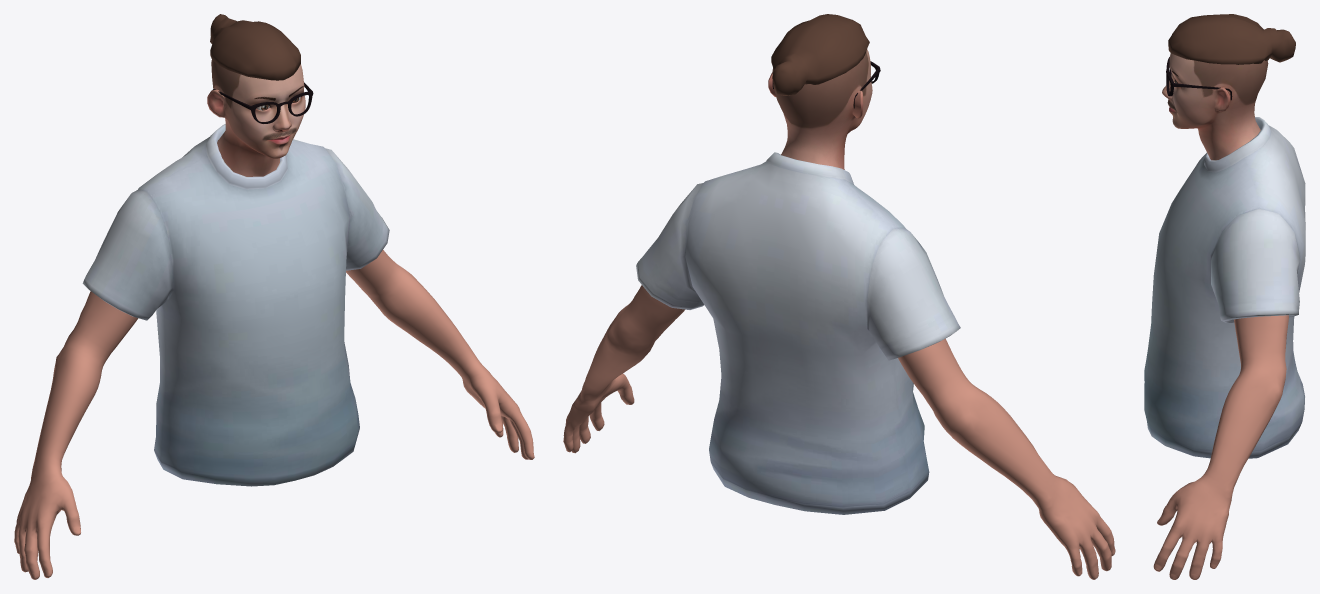
File: asian_upper.glb
3 renders of one model, left to right at view 1: azimuth 30°, elevation 25°; view 2: azimuth 150°, elevation 25°; view 3: azimuth 270°, elevation 25°, orthographic. The views are drawn at different scales.
Visible parts, largest first — view 1: Wolf3D_Outfit_Top, Wolf3D_Body, Wolf3D_Head, Wolf3D_Hair, Wolf3D_Glasses; view 2: Wolf3D_Outfit_Top, Wolf3D_Body, Wolf3D_Head, Wolf3D_Hair; view 3: Wolf3D_Outfit_Top, Wolf3D_Body, Wolf3D_Head, Wolf3D_Hair, Wolf3D_Glasses.
Boxes of the visible parts, x1,y1,x2,y2 form: Wolf3D_Outfit_Top: [82, 124, 389, 486]; Wolf3D_Body: [14, 250, 534, 579]; Wolf3D_Head: [207, 60, 305, 176]; Wolf3D_Hair: [210, 14, 300, 80]; Wolf3D_Glasses: [212, 82, 313, 123]; Wolf3D_Outfit_Top: [636, 152, 960, 514]; Wolf3D_Body: [563, 285, 1115, 579]; Wolf3D_Head: [768, 49, 872, 169]; Wolf3D_Hair: [771, 14, 869, 95]; Wolf3D_Outfit_Top: [1144, 117, 1305, 458]; Wolf3D_Body: [1153, 315, 1288, 579]; Wolf3D_Head: [1162, 53, 1268, 160]; Wolf3D_Hair: [1168, 14, 1295, 64]; Wolf3D_Glasses: [1166, 57, 1232, 100].
Size of the model in its own units: 1.06 by 0.9587 by 0.3125.
Materials: 7 (7 with a texture image).
